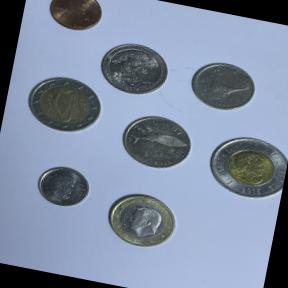coin: (199, 125, 288, 208), (18, 68, 110, 142), (100, 184, 184, 258), (114, 108, 199, 178), (93, 36, 175, 101), (30, 157, 97, 217), (41, 0, 106, 38)
